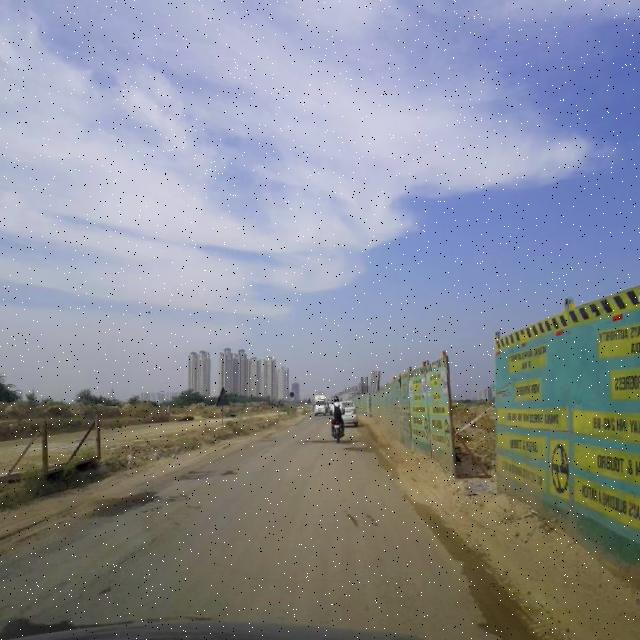D00: (13, 529, 175, 621)
D40: (93, 486, 178, 519)
